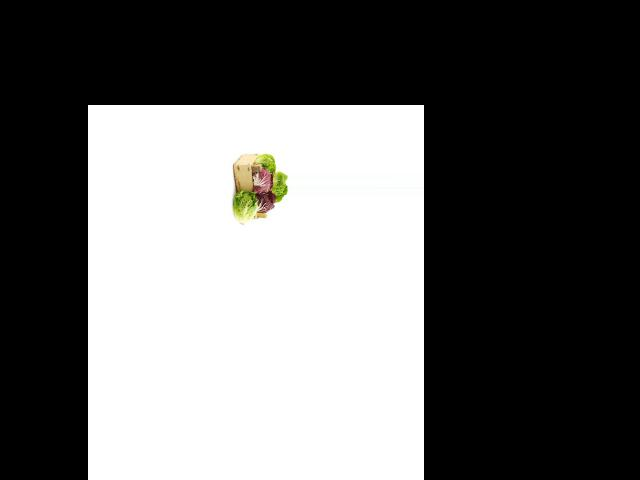lettuce: (266, 171, 288, 202)
